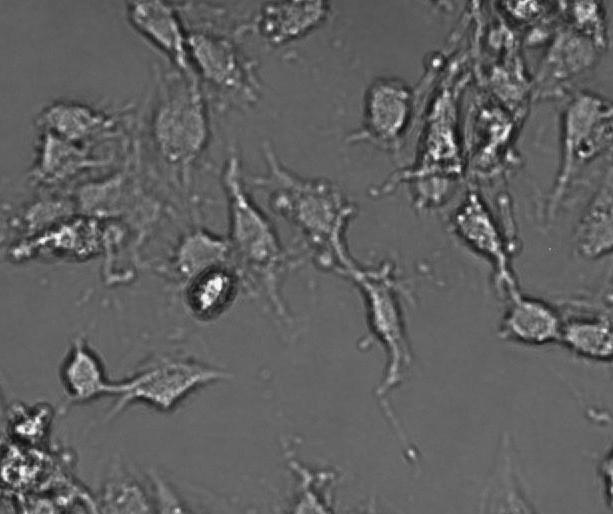Dead: (10, 210, 116, 269), (3, 444, 80, 506), (182, 262, 242, 323), (3, 398, 60, 448)
